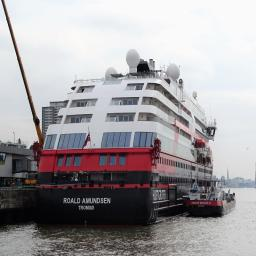cruises: (36, 47, 222, 236)
